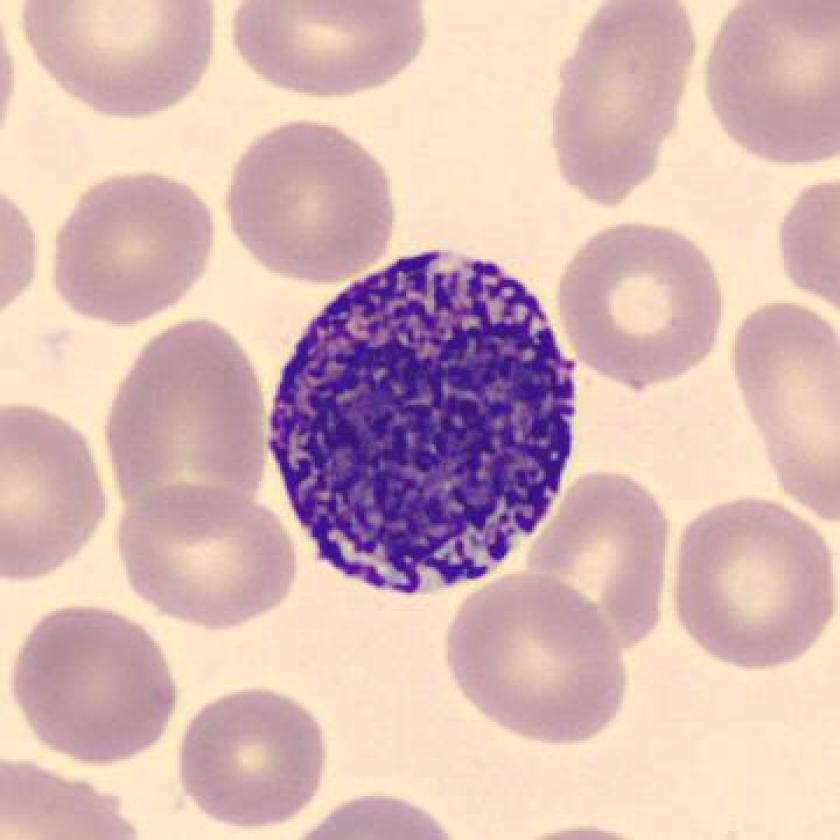basophil: (269, 246, 580, 610)
